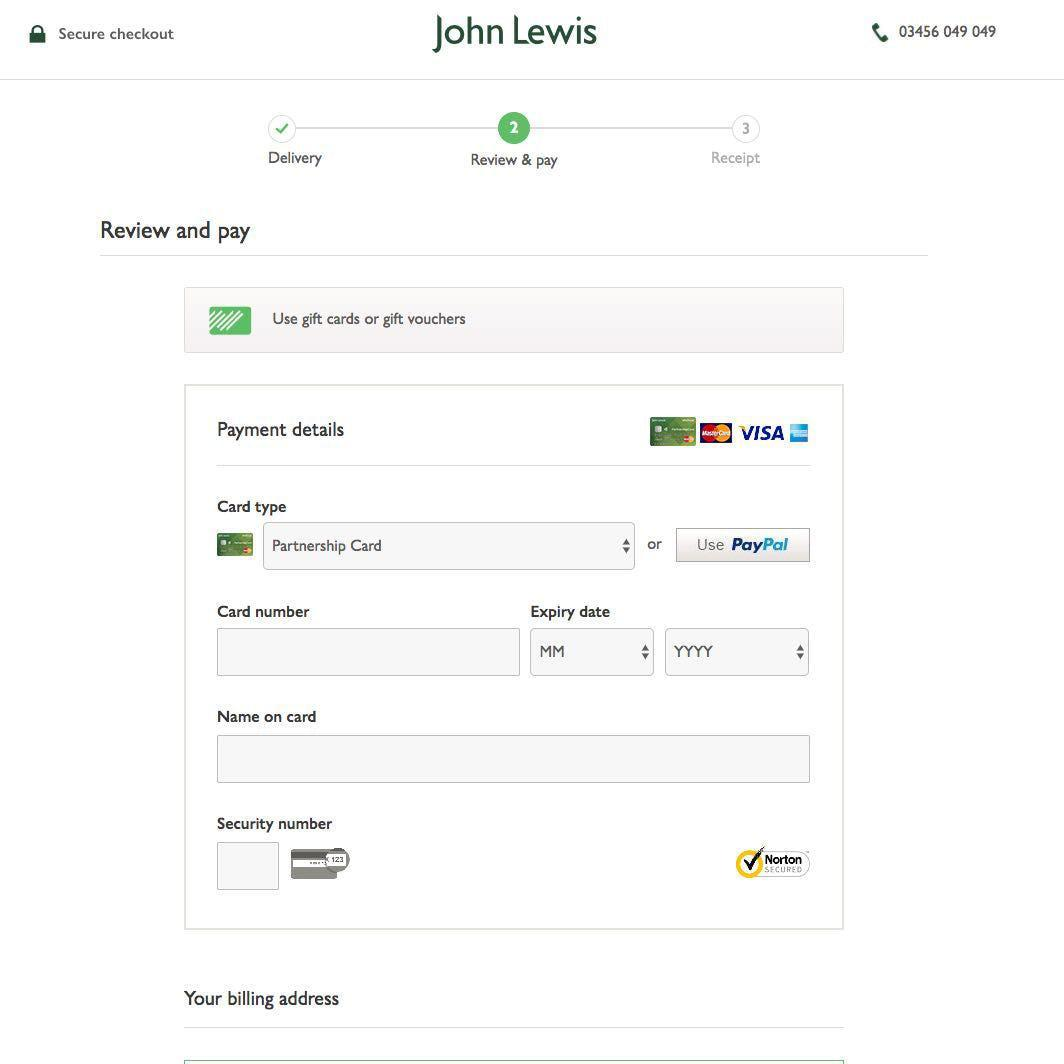button: (676, 528, 812, 564)
dropdown: (263, 522, 637, 571), (665, 630, 811, 678), (532, 629, 654, 677)
input: (217, 735, 811, 783), (217, 630, 521, 676), (218, 843, 280, 890)
label: (98, 218, 256, 248), (185, 986, 345, 1012), (216, 417, 349, 444), (213, 813, 336, 837), (217, 602, 316, 623), (529, 602, 613, 624), (215, 710, 325, 726), (214, 499, 291, 519)
